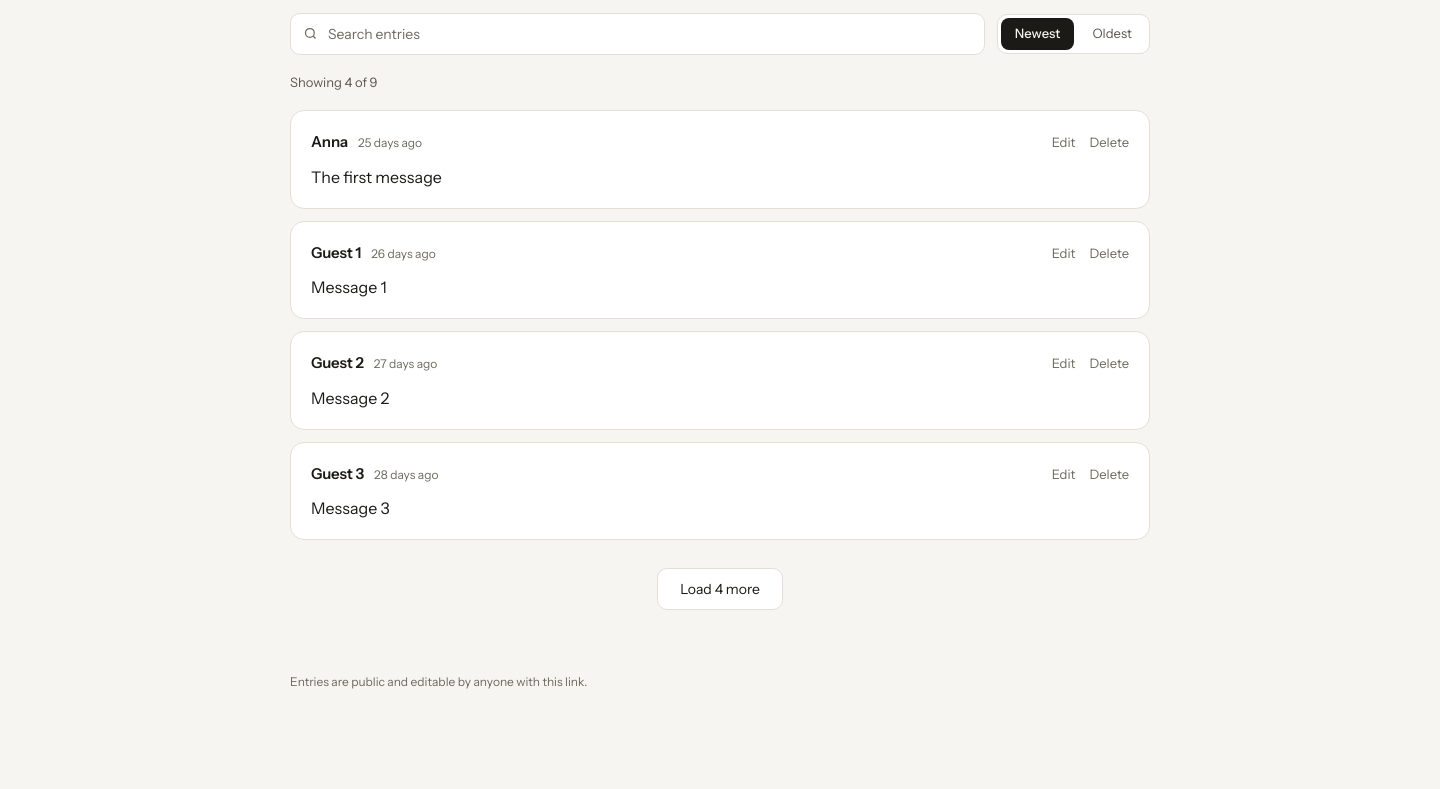
loading more › neither duplicates nor loses an entry when the book changes underneath [req:CR-2609-9b1e/R-7]
(page scrolled)
Expected: the text "The first message" is shown, [311,167,442,187]
Click the button "Load 4 more" at (720, 589), box [657,568,783,610]
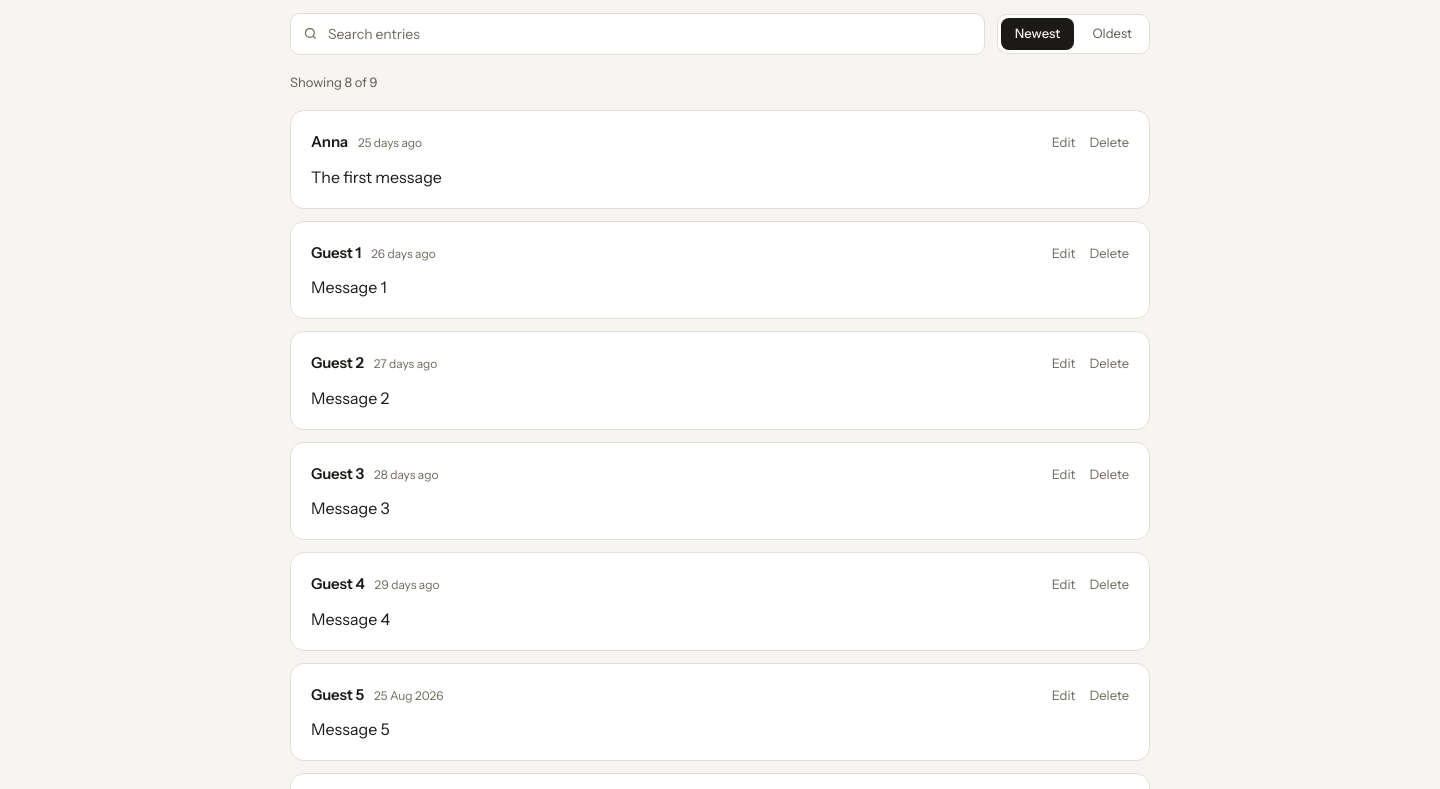
Click the button "Delete" in the row of "26 days ago" at (1109, 254), box [1090,244,1129,263]
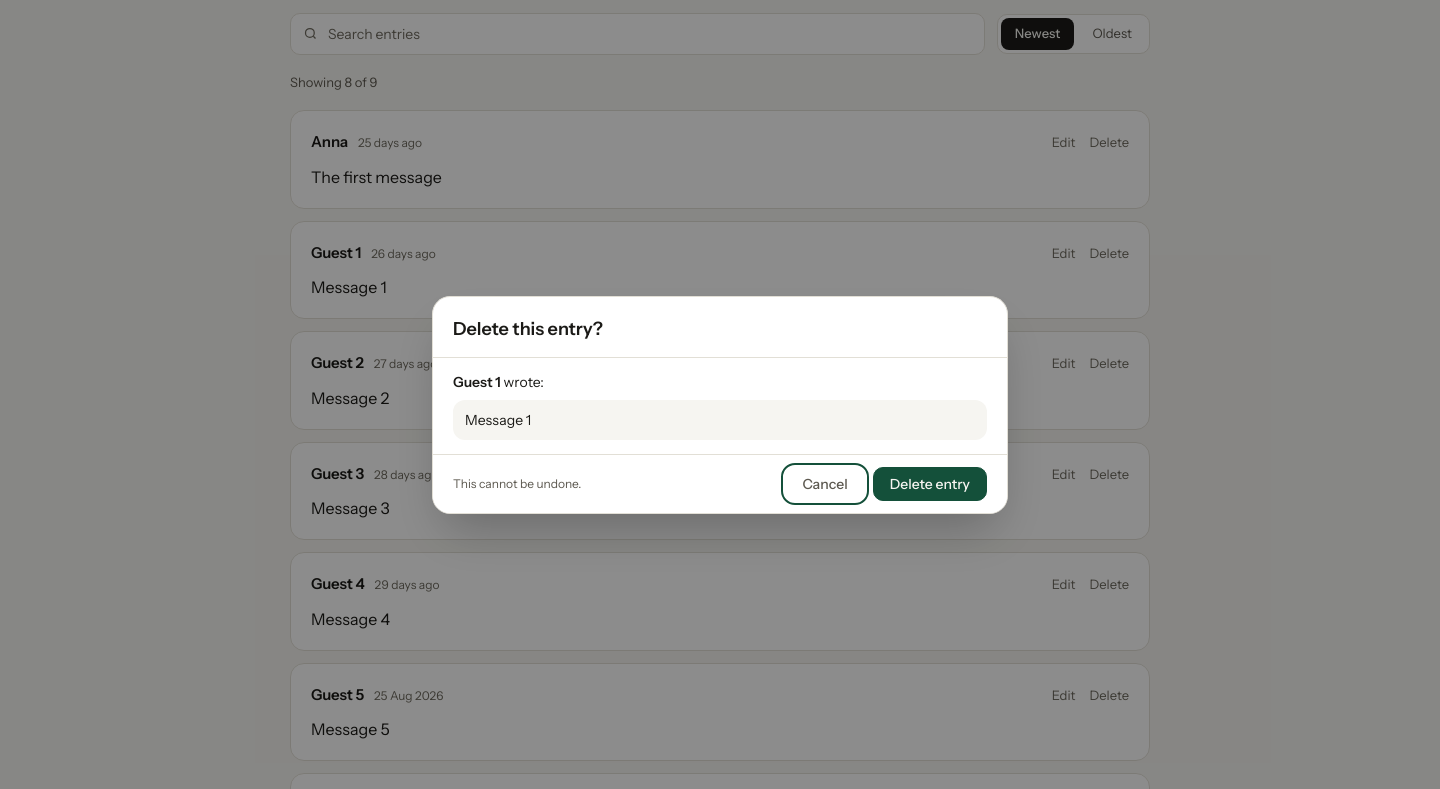
Click the button "Delete entry" at (930, 484), box [873,467,987,501]
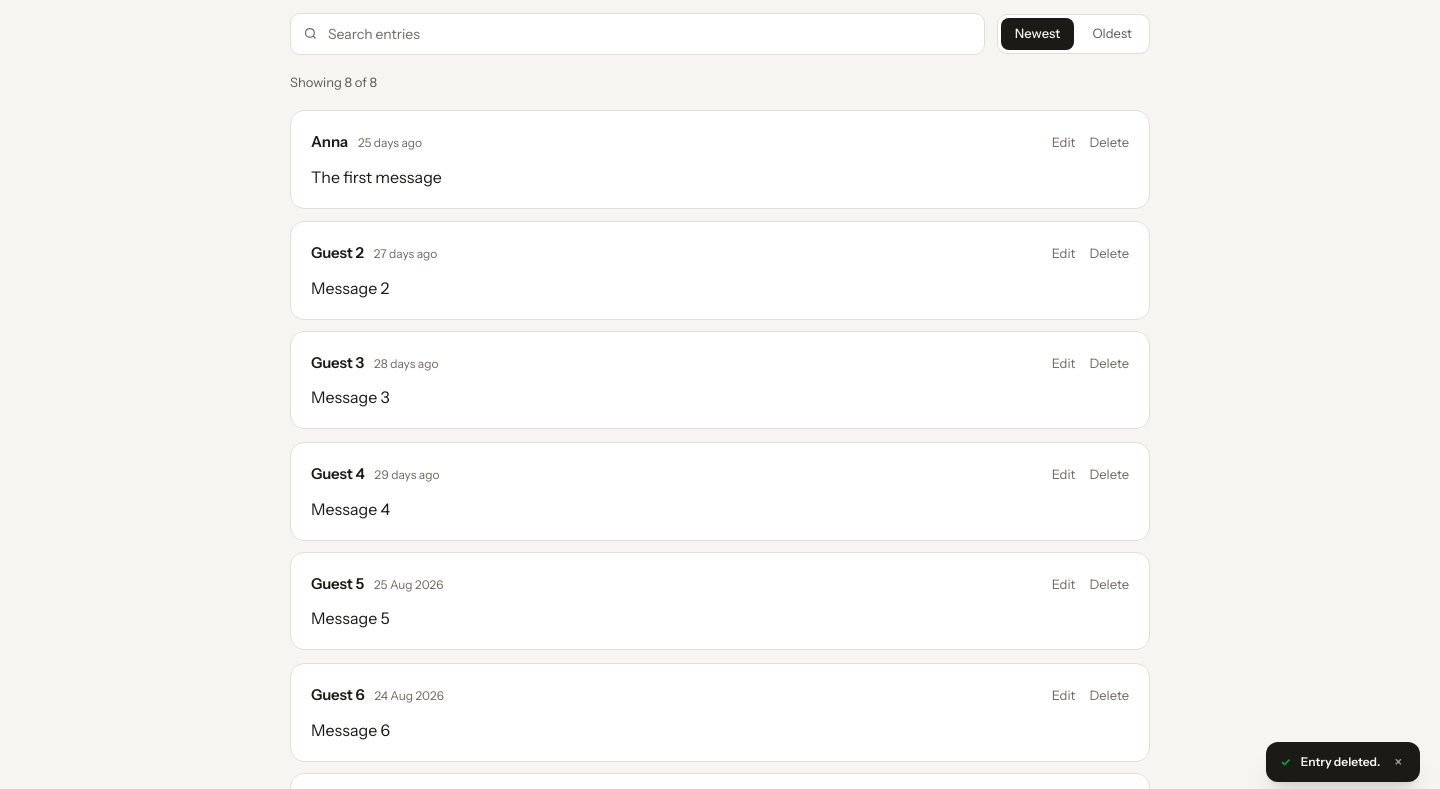
Expected: the text "Message 1" is gone
